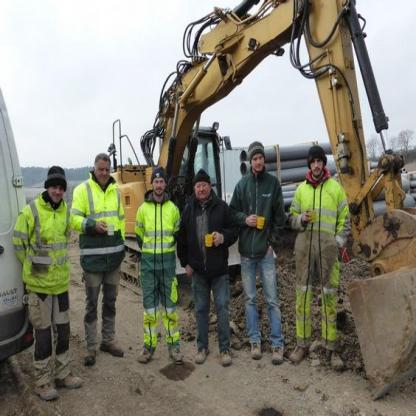person: (10, 148, 81, 391), (291, 135, 355, 375), (231, 136, 293, 366), (74, 129, 132, 372), (131, 141, 190, 375), (178, 147, 238, 366)
